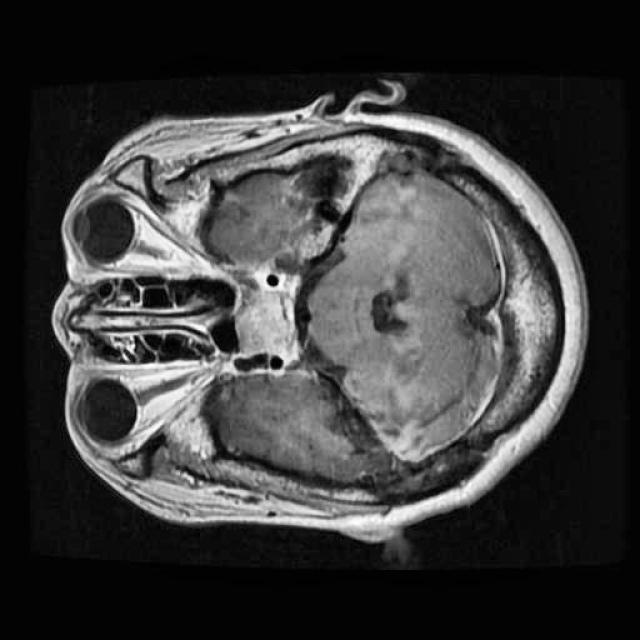Tumor: (225, 275, 309, 366)
